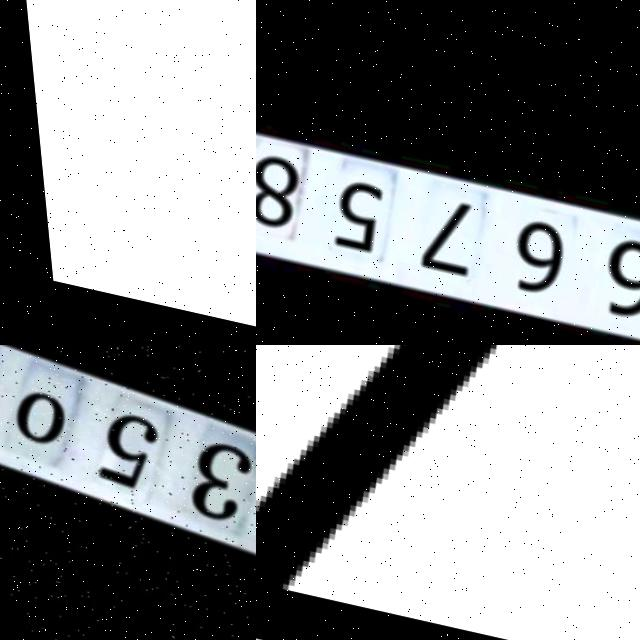0: (0, 365, 83, 476)
2: (251, 458, 256, 565)
3: (161, 425, 256, 543)
5: (77, 398, 171, 506), (319, 172, 392, 264)
6: (495, 211, 574, 309), (582, 227, 640, 333)
7: (256, 345, 640, 640), (403, 188, 486, 288)
8: (256, 144, 307, 241)
L: (51, 0, 256, 345)
